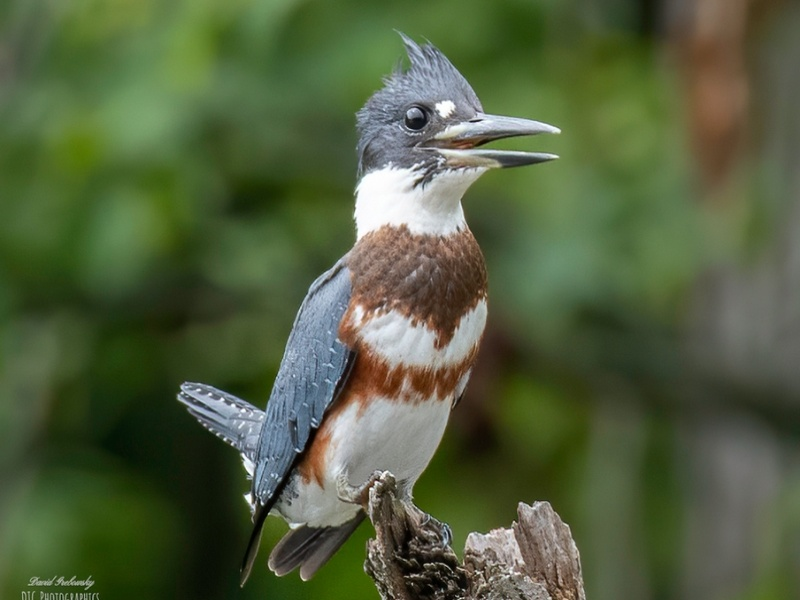kingfisher: (173, 23, 564, 591)
